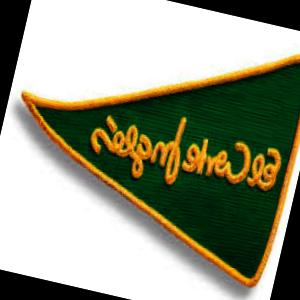corte_ingles: (76, 108, 291, 201)
